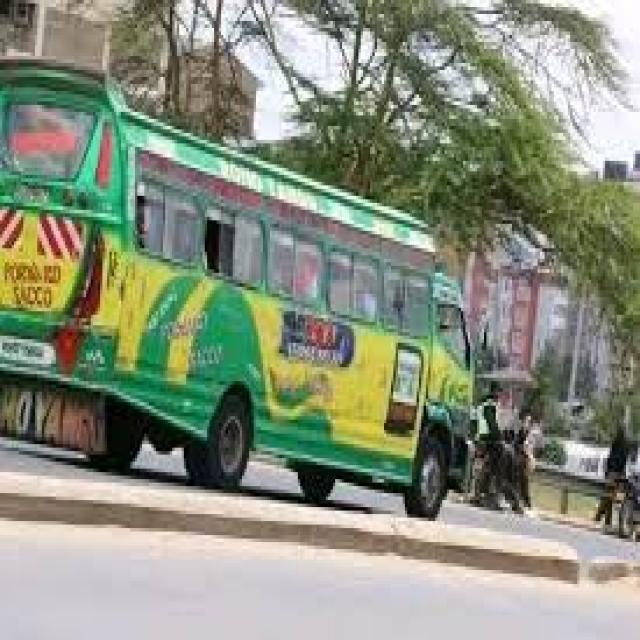bus: (1, 28, 494, 535)
